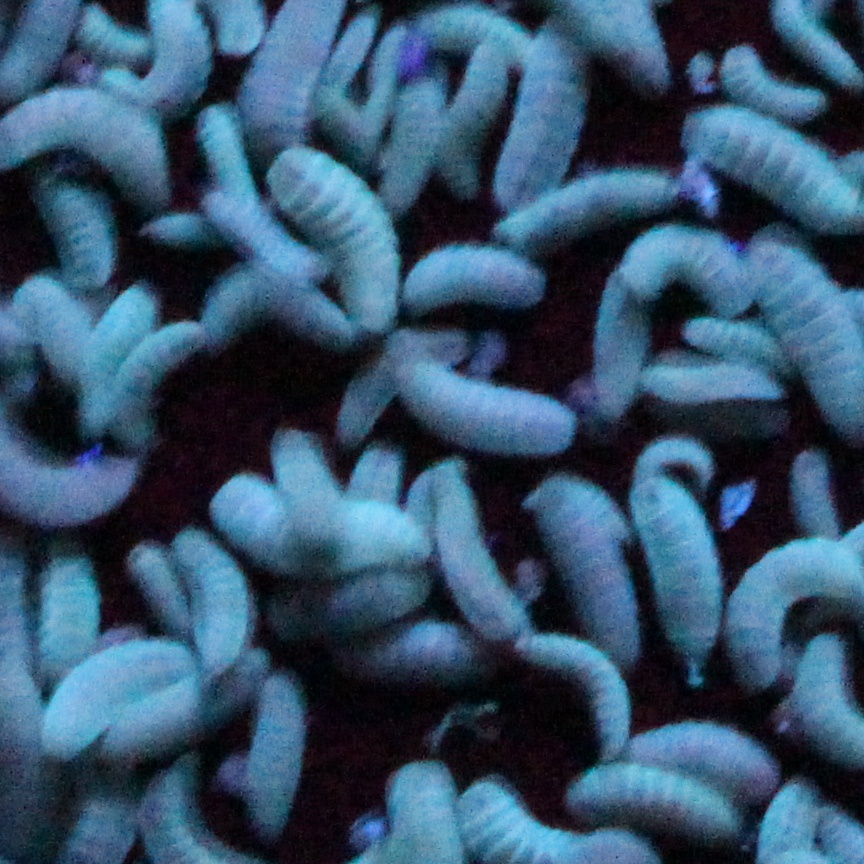larve: (378, 340, 586, 469), (422, 475, 526, 653), (272, 171, 401, 314), (505, 160, 690, 250), (638, 458, 708, 691), (693, 106, 841, 214), (744, 539, 858, 678), (51, 635, 176, 757), (494, 39, 583, 196), (105, 310, 197, 450), (162, 535, 251, 668), (570, 767, 726, 842), (522, 632, 622, 746), (280, 571, 422, 628), (451, 782, 547, 860), (383, 68, 451, 178), (44, 200, 112, 310), (276, 435, 333, 553), (247, 696, 294, 832), (780, 457, 844, 553)
